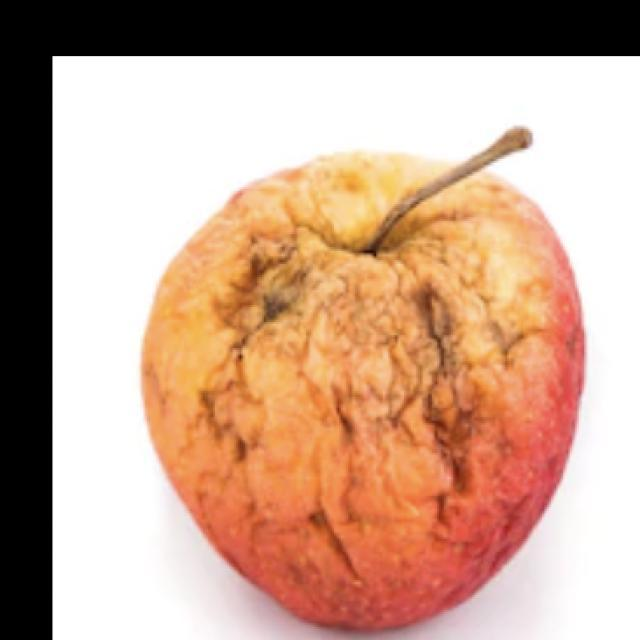Rotten: (141, 147, 587, 635)
